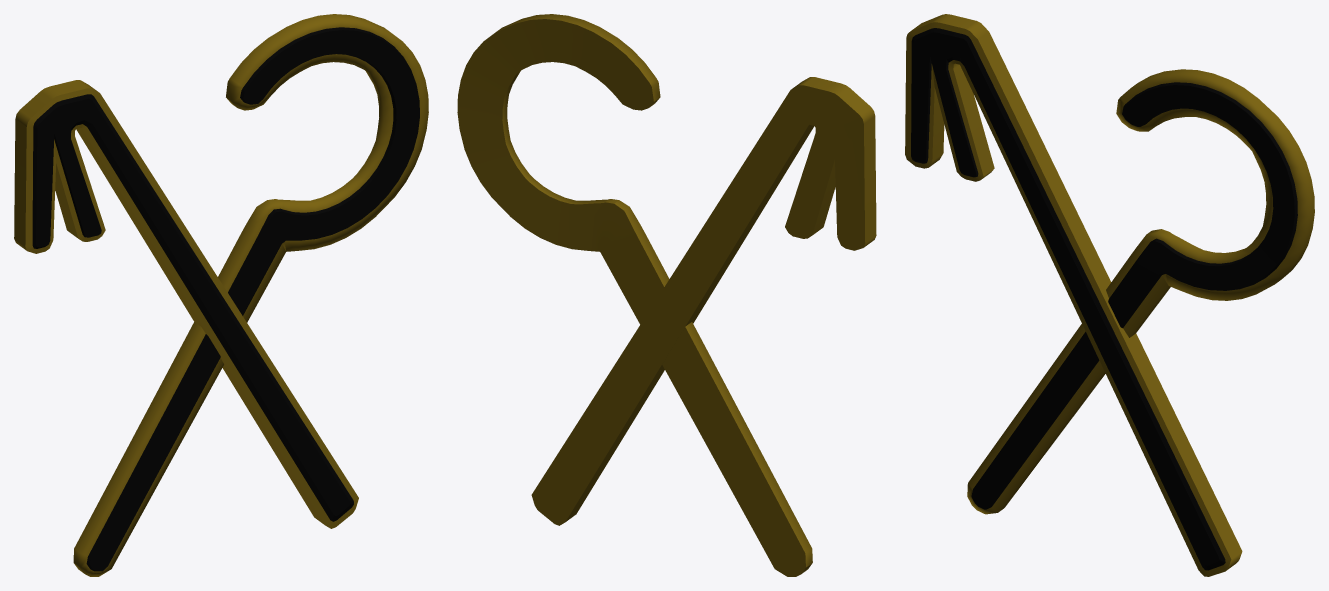
Rendered from Jeroglifico 1.fbx.
3 views of the same model, side by side, from view 1: azimuth 30°, elevation 25°; view 2: azimuth 150°, elevation 25°; view 3: azimuth 330°, elevation 25° (orthographic). The views are drawn at different scales.
Visible parts, largest first — view 1: pSphere3; view 2: pSphere3; view 3: pSphere3.
Boxes of the visible parts, x1=… form: pSphere3: x1=14, y1=14, x2=428, y2=576; pSphere3: x1=457, y1=14, x2=876, y2=576; pSphere3: x1=905, y1=14, x2=1314, y2=576.
Size of the model in its own units: 422 by 499 by 23.31.
